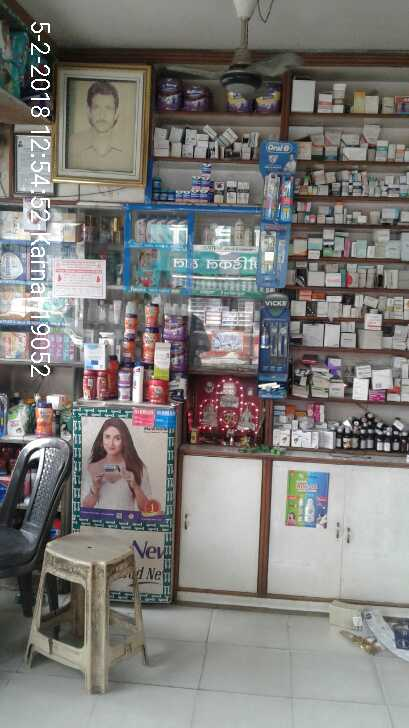pharmacy: (131, 251, 159, 291), (279, 171, 296, 225), (265, 169, 279, 225), (258, 327, 270, 348), (149, 169, 162, 188), (199, 186, 210, 206), (196, 157, 209, 173), (191, 187, 200, 202), (174, 190, 184, 202), (182, 189, 190, 203), (167, 188, 174, 202), (159, 190, 167, 200), (153, 189, 159, 199)
